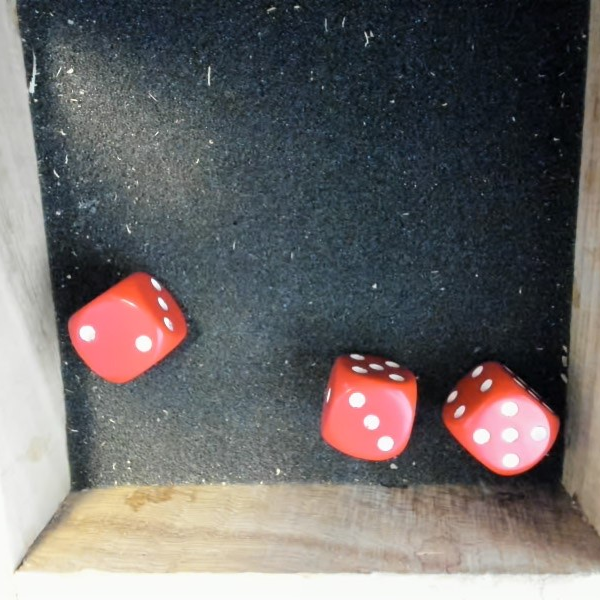red_die_pip2: (57, 258, 203, 400)
red_die_pip3: (314, 341, 429, 468)
red_die_pip5: (425, 347, 570, 491)
